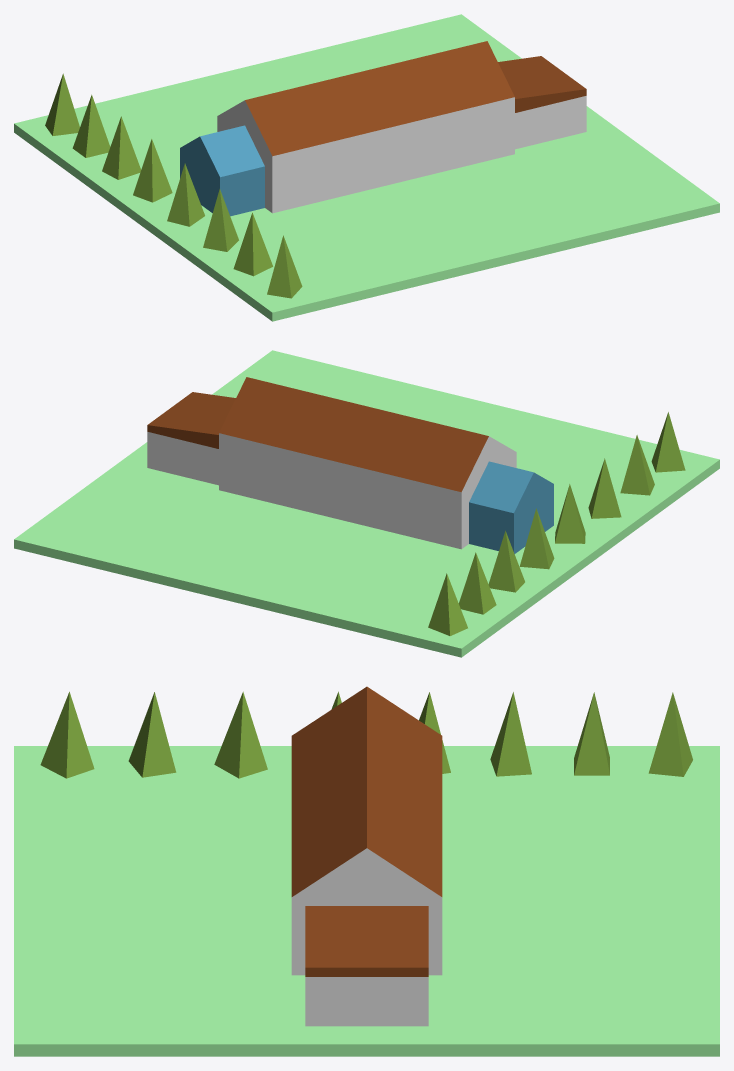
File: house5_L.fbx
The picture shows the model from 3 angles, top to bottom: view 1: azimuth 30°, elevation 25°; view 2: azimuth 150°, elevation 25°; view 3: azimuth 270°, elevation 25°; orthographic projection. The views are drawn at different scales.
Visible parts, largest first — view 1: Cube.009, Cube.008, tree_L.012, tree_L.013, tree_L.009, tree_L.014, tree_L.011, tree_L.015, tree_L.010, tree_L.008; view 2: Cube.009, Cube.008, tree_L.015, tree_L.014, tree_L.013, tree_L.012, tree_L.009, tree_L.008, tree_L.010, tree_L.011; view 3: Cube.009, Cube.008, tree_L.008, tree_L.010, tree_L.009, tree_L.015, tree_L.013, tree_L.014, tree_L.012.
Boxes of the visible parts, left/top/right/bottom form: Cube.009: left=14, top=14, right=719, bottom=321; Cube.008: left=180, top=41, right=586, bottom=216; tree_L.012: left=133, top=139, right=172, bottom=202; tree_L.013: left=102, top=116, right=140, bottom=179; tree_L.009: left=233, top=212, right=272, bottom=276; tree_L.014: left=72, top=94, right=110, bottom=157; tree_L.011: left=167, top=163, right=204, bottom=226; tree_L.015: left=45, top=73, right=79, bottom=135; tree_L.010: left=203, top=189, right=238, bottom=251; tree_L.008: left=267, top=235, right=302, bottom=298; Cube.009: left=14, top=350, right=719, bottom=657; Cube.008: left=147, top=377, right=553, bottom=553; tree_L.015: left=428, top=573, right=467, bottom=635; tree_L.014: left=458, top=552, right=496, bottom=614; tree_L.013: left=488, top=530, right=524, bottom=592; tree_L.012: left=519, top=508, right=554, bottom=569; tree_L.009: left=620, top=435, right=654, bottom=495; tree_L.008: left=651, top=412, right=685, bottom=472; tree_L.010: left=588, top=458, right=621, bottom=518; tree_L.011: left=555, top=484, right=585, bottom=543; Cube.009: left=14, top=746, right=719, bottom=1056; Cube.008: left=291, top=686, right=442, bottom=1026; tree_L.008: left=40, top=691, right=94, bottom=778; tree_L.010: left=214, top=691, right=267, bottom=778; tree_L.009: left=128, top=692, right=176, bottom=777; tree_L.015: left=648, top=692, right=692, bottom=776; tree_L.013: left=490, top=692, right=531, bottom=776; tree_L.014: left=574, top=692, right=609, bottom=775; tree_L.012: left=419, top=692, right=450, bottom=773.
Size of the model in its own units: 26 by 26 by 5.71.
Materials: 2 (2 with a texture image).
